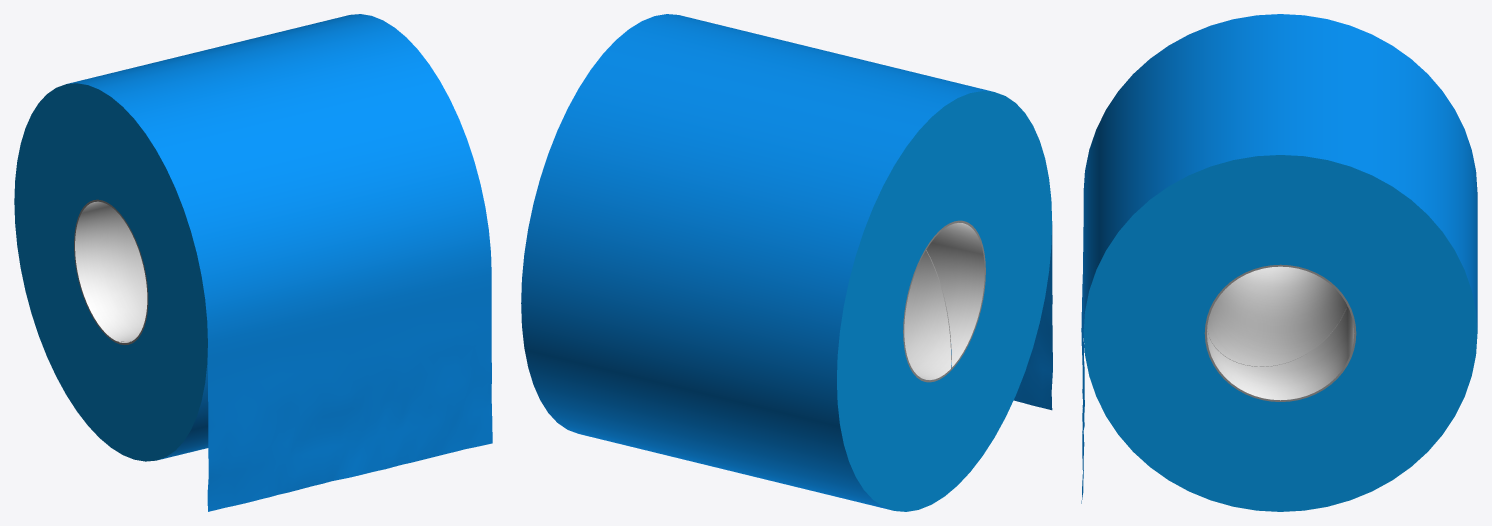
Rendered from 000119_Filme_Gofrado_Modelo_3.glb.
3 views of the same model, side by side, from view 1: azimuth 30°, elevation 25°; view 2: azimuth 150°, elevation 25°; view 3: azimuth 270°, elevation 25° (orthographic). The views are drawn at different scales.
Size of the model in its own units: 0.11 by 0.13 by 0.1307.
Materials: 5 (3 with a texture image).
